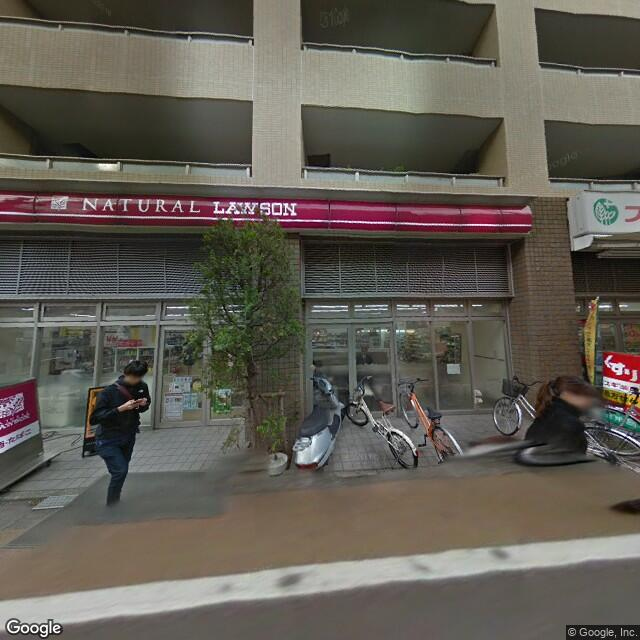lawson: (1, 183, 535, 236), (1, 374, 42, 455)
